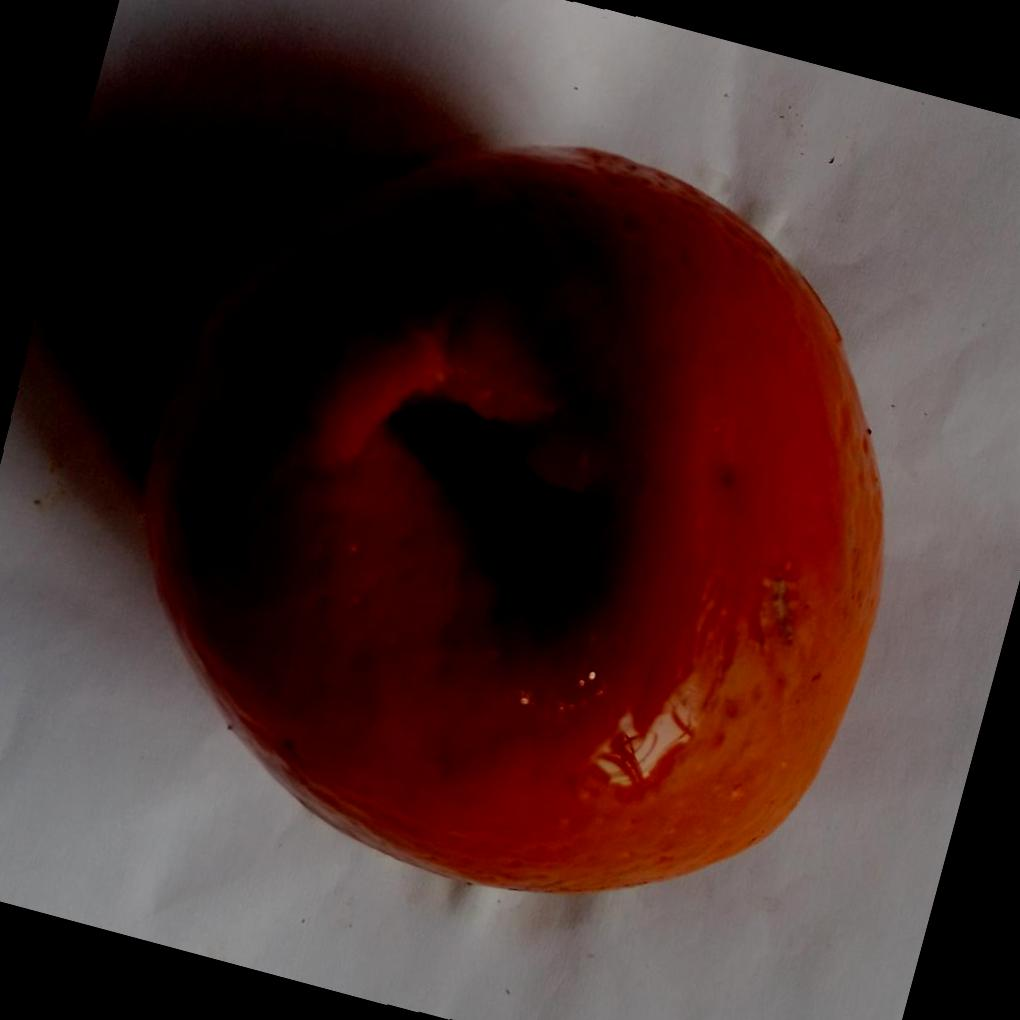FreshOrange: (138, 138, 884, 900)
